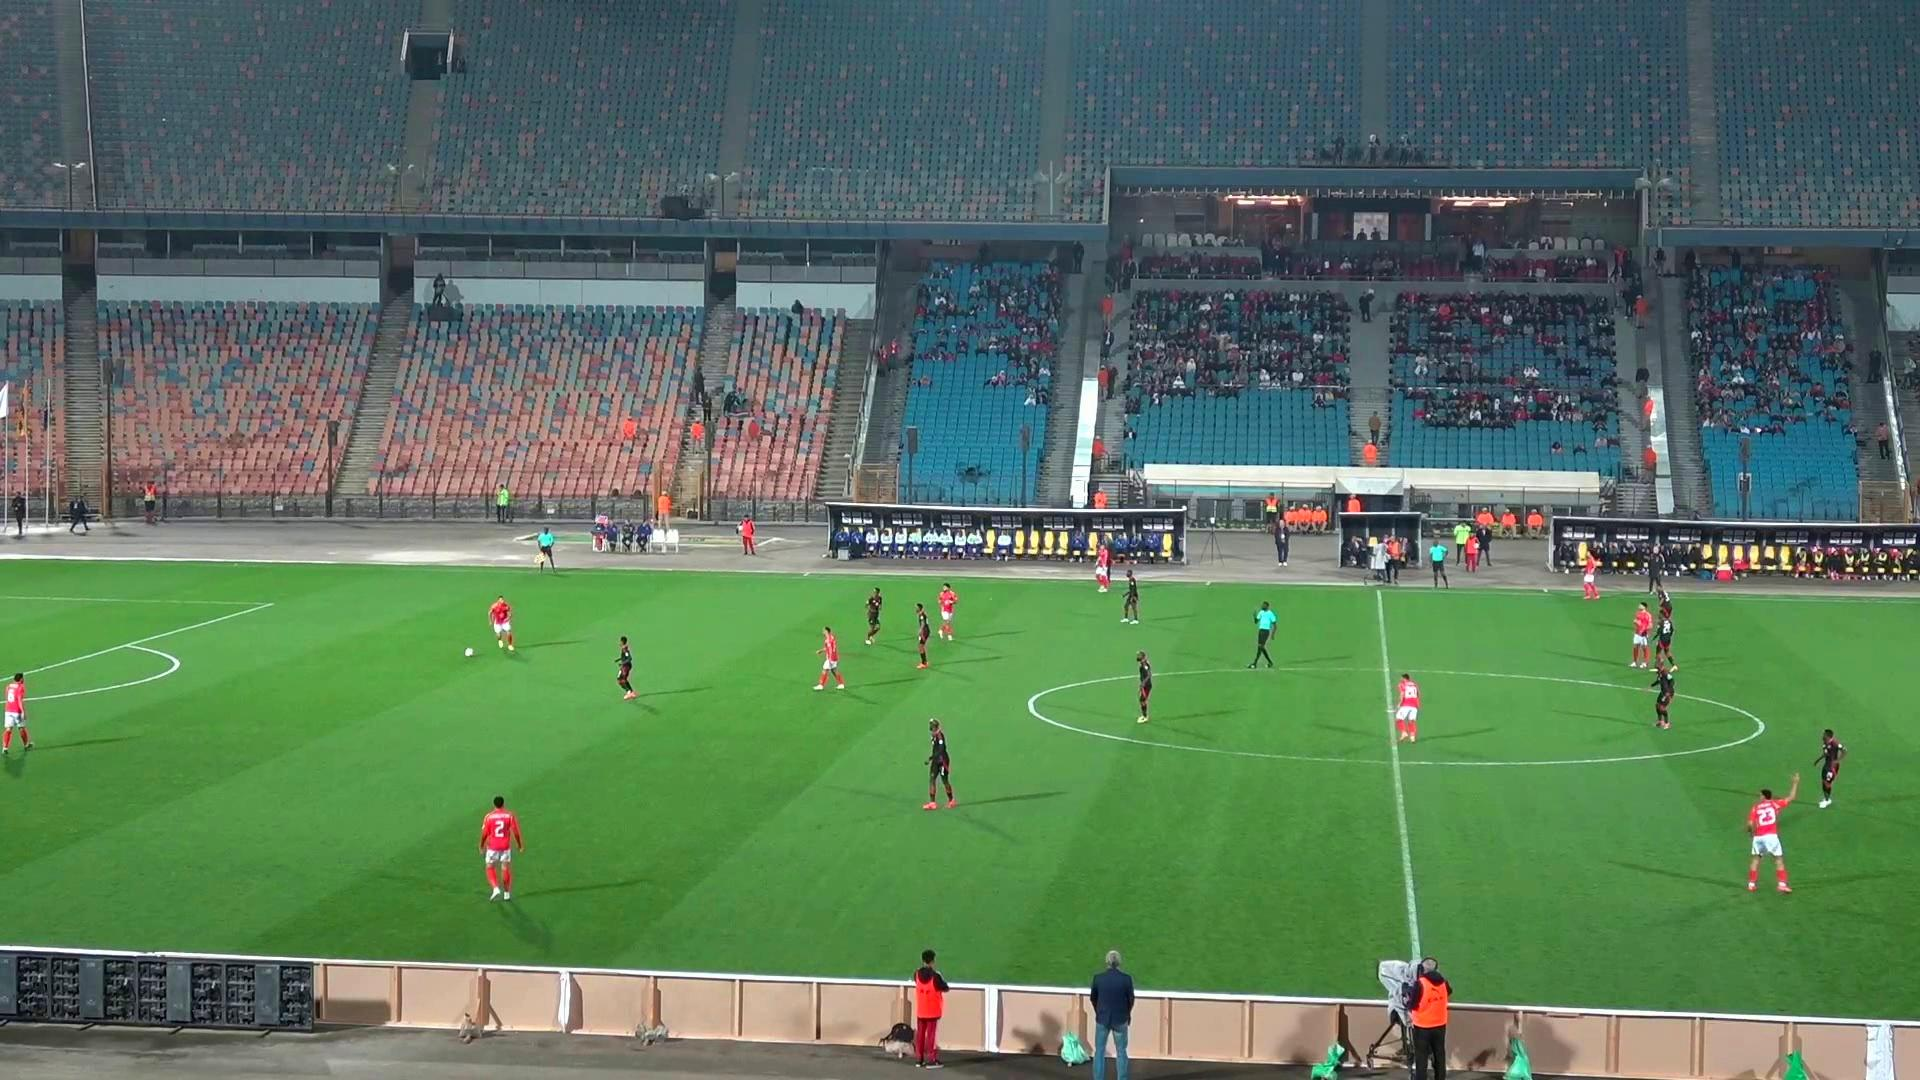Ball: (465, 647, 473, 657)
Refree: (1249, 601, 1276, 667), (1427, 539, 1449, 588), (531, 526, 555, 568)
Team1: (1746, 789, 1791, 893), (479, 796, 524, 899), (0, 673, 33, 754), (1390, 673, 1420, 742), (814, 626, 845, 688), (1630, 603, 1654, 669), (488, 596, 516, 651), (939, 582, 957, 641), (1093, 535, 1109, 596), (1582, 547, 1600, 600)
Team2: (923, 717, 955, 808), (1815, 728, 1846, 808), (1654, 657, 1677, 729), (616, 636, 638, 699), (1135, 651, 1153, 723), (915, 604, 932, 669), (865, 588, 884, 644), (1121, 570, 1139, 622), (1656, 585, 1673, 629)
